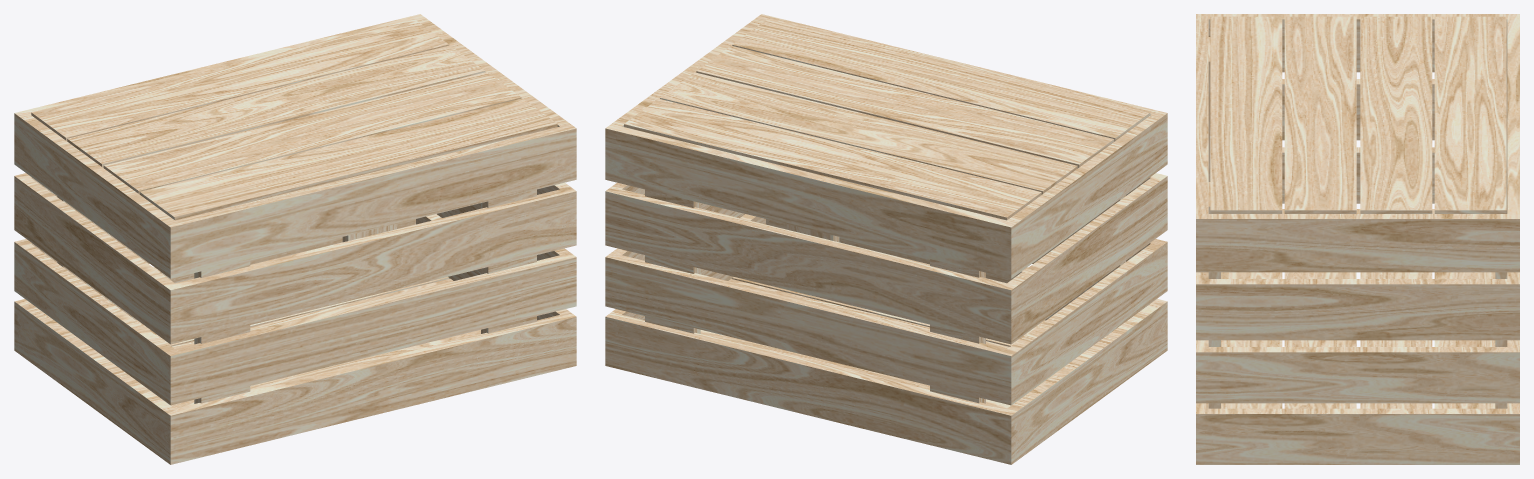
The model's file is CajaDestructible.fbx.
3 views of the same model, side by side, from view 1: azimuth 30°, elevation 25°; view 2: azimuth 150°, elevation 25°; view 3: azimuth 270°, elevation 25° (orthographic). The views are drawn at different scales.
Parts seen in each view (by area): view 1: caja, caja_cell.001, caja_cell.019, caja_cell.037, caja_cell.033, caja_cell.035, caja_cell.010, caja_cell.040, caja_cell.021, caja_cell.029, caja_cell.009, caja_cell.004; view 2: caja, caja_cell.029, caja_cell.033, caja_cell.007, caja_cell.019, caja_cell.021, caja_cell.039, caja_cell.002, caja_cell.010, caja_cell.016, caja_cell.009; view 3: caja, caja_cell.010, caja_cell.001, caja_cell.019, caja_cell.029, caja_cell.033, caja_cell.006, caja_cell.045, caja_cell.007, caja_cell.011, caja_cell.008, caja_cell.035 (+4 smaller).
Part boxes in pixels (x1=…): caja: x1=14, y1=14, x2=576, y2=464; caja_cell.001: x1=401, y1=133, x2=576, y2=386; caja_cell.019: x1=34, y1=180, x2=335, y2=404; caja_cell.037: x1=170, y1=294, x2=409, y2=464; caja_cell.033: x1=14, y1=59, x2=307, y2=309; caja_cell.035: x1=292, y1=162, x2=414, y2=217; caja_cell.010: x1=401, y1=44, x2=576, y2=163; caja_cell.040: x1=312, y1=208, x2=400, y2=243; caja_cell.021: x1=14, y1=299, x2=202, y2=454; caja_cell.029: x1=184, y1=14, x2=456, y2=279; caja_cell.009: x1=269, y1=278, x2=452, y2=324; caja_cell.004: x1=402, y1=152, x2=476, y2=197; caja: x1=605, y1=14, x2=1167, y2=464; caja_cell.029: x1=605, y1=98, x2=900, y2=433; caja_cell.033: x1=786, y1=154, x2=1102, y2=429; caja_cell.007: x1=801, y1=113, x2=1076, y2=194; caja_cell.019: x1=1025, y1=79, x2=1167, y2=341; caja_cell.021: x1=958, y1=299, x2=1160, y2=464; caja_cell.039: x1=901, y1=421, x2=981, y2=457; caja_cell.002: x1=605, y1=309, x2=703, y2=387; caja_cell.010: x1=649, y1=14, x2=875, y2=98; caja_cell.016: x1=605, y1=268, x2=644, y2=315; caja_cell.009: x1=702, y1=332, x2=839, y2=367; caja: x1=1196, y1=14, x2=1519, y2=464; caja_cell.010: x1=1196, y1=143, x2=1435, y2=272; caja_cell.001: x1=1196, y1=225, x2=1360, y2=464; caja_cell.019: x1=1196, y1=14, x2=1434, y2=203; caja_cell.029: x1=1426, y1=130, x2=1519, y2=408; caja_cell.033: x1=1325, y1=14, x2=1519, y2=157; caja_cell.006: x1=1361, y1=139, x2=1432, y2=213; caja_cell.045: x1=1293, y1=426, x2=1492, y2=464; caja_cell.007: x1=1360, y1=31, x2=1426, y2=148; caja_cell.011: x1=1285, y1=160, x2=1356, y2=213; caja_cell.008: x1=1360, y1=272, x2=1432, y2=278; caja_cell.035: x1=1196, y1=78, x2=1208, y2=136.
Bounding box in the file's own units: 300 × 173 × 200.
